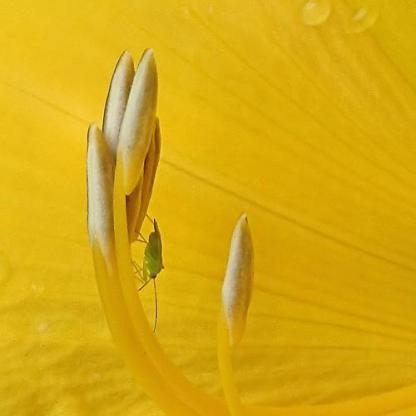aphid: (131, 202, 171, 334)
